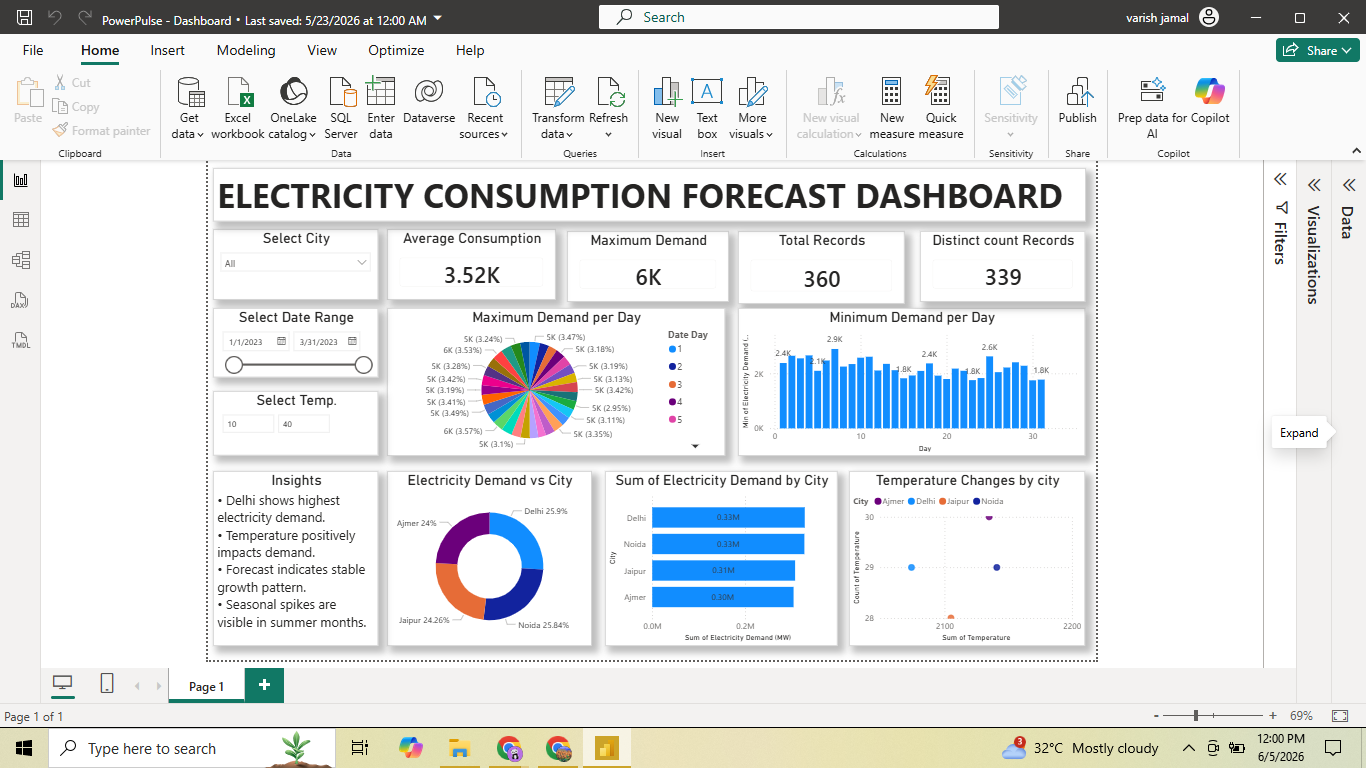

Layout of this report page (visuals, bound fields, positions):
{"tool":"powerbi","page":{"name":"Page 1","canvas":[1280,720],"ordinal":0},"visuals":[{"type":"cardVisual","title":"Maximum Demand","fields":{"Data":["electricity_data2.Maximum Demand"]},"box":[516.7,101.7,233.3,101.7],"z":0},{"type":"cardVisual","title":"Total Records","fields":{"Data":["electricity_data2.Total Records"]},"box":[763.3,101.7,240,105],"z":1000},{"type":"cardVisual","title":"Average Consumption","fields":{"Data":["electricity_data2.Average Consumption"]},"box":[258.3,100,243.3,101.7],"z":2000},{"type":"donutChart","title":"Electricity Demand vs City","fields":{"Y":["Sum(electricity_data2.Electricity Demand (MW))"],"Category":["electricity_data2.City"]},"box":[258.3,448.3,295,251.7],"z":3000},{"type":"clusteredColumnChart","title":"Minimum Demand per Day","fields":{"Category":["electricity_data2.Date.Variation.Date Hierarchy.Day"],"Y":["Min(electricity_data2.Electricity Demand (MW))"]},"box":[763.3,213.3,500,213.3],"z":4000},{"type":"pieChart","title":"Maximum Demand per Day","fields":{"Category":["electricity_data2.Date.Variation.Date Hierarchy.Day"],"Y":["electricity_data2.Maximum Demand"]},"box":[258.3,213.3,486.7,213.3],"z":5000},{"type":"clusteredBarChart","title":"Sum of Electricity Demand by City","fields":{"Category":["electricity_data2.City"],"Y":["Sum(electricity_data2.Electricity Demand (MW))"]},"box":[571.7,448.3,335,251.7],"z":6000},{"type":"scatterChart","title":"Temperature Changes by city","fields":{"X":["Sum(electricity_data2.Temperature)"],"Series":["electricity_data2.City"],"Y":["Count(electricity_data2.Temperature)"]},"box":[923.3,448.3,340,251.7],"z":7000},{"type":"slicer","title":"Select City","fields":{"Values":["electricity_data2.City"]},"box":[6.7,100,238.3,101.7],"z":8000},{"type":"slicer","title":"Select Date Range","fields":{"Values":["electricity_data2.Date"]},"box":[6.7,213.3,238.3,100],"z":9000},{"type":"textbox","title":"Insights","box":[6.7,448.3,238.3,251.7],"z":10000},{"type":"textbox","box":[6.7,11.7,1256.7,76.7],"z":11000},{"type":"slicer","title":"Select Temp.","fields":{"Values":["electricity_data2.Temperature"]},"box":[6.7,333.3,238.3,93.3],"z":12000},{"type":"cardVisual","title":"Distinct count Records","fields":{"Data":["Count(electricity_data2.Electricity Demand (MW))"]},"box":[1025,101.7,238.3,101.7],"z":13000}]}

Visuals, with their boxes on the page's 1280x720 design canvas (x1, y1, x2, y2). These are canvas units, not pixel positions in the 1366x768 screenshot, which may show the page scaled, cropped or inside an application window:
"Maximum Demand" cardVisual: detection(517, 102, 750, 203)
"Total Records" cardVisual: detection(763, 102, 1003, 207)
"Average Consumption" cardVisual: detection(258, 100, 502, 202)
"Electricity Demand vs City" donutChart: detection(258, 448, 553, 700)
"Minimum Demand per Day" clusteredColumnChart: detection(763, 213, 1263, 427)
"Maximum Demand per Day" pieChart: detection(258, 213, 745, 427)
"Sum of Electricity Demand by City" clusteredBarChart: detection(572, 448, 907, 700)
"Temperature Changes by city" scatterChart: detection(923, 448, 1263, 700)
"Select City" slicer: detection(7, 100, 245, 202)
"Select Date Range" slicer: detection(7, 213, 245, 313)
"Insights" textbox: detection(7, 448, 245, 700)
textbox: detection(7, 12, 1263, 88)
"Select Temp." slicer: detection(7, 333, 245, 427)
"Distinct count Records" cardVisual: detection(1025, 102, 1263, 203)
